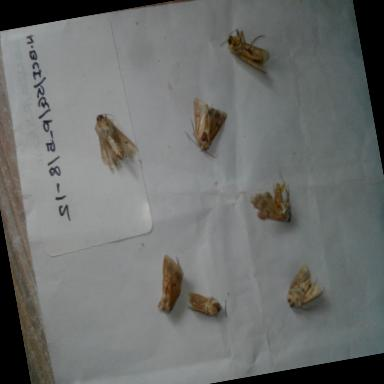abw: (242, 172, 300, 236), (86, 104, 142, 170), (142, 250, 192, 322), (184, 90, 234, 159), (220, 23, 275, 80), (278, 260, 329, 314), (184, 282, 230, 324)
